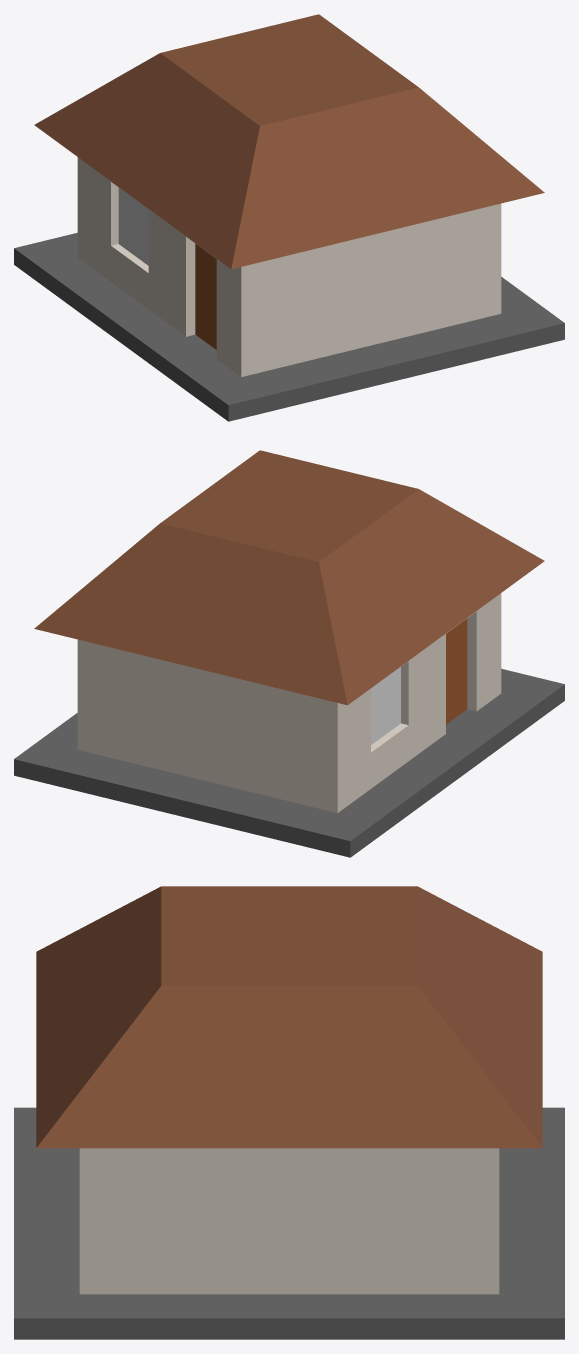
Rendered from House.fbx.
3 renders of one model, top to bottom at view 1: azimuth 30°, elevation 25°; view 2: azimuth 150°, elevation 25°; view 3: azimuth 270°, elevation 25°, orthographic. The views are drawn at different scales.
Parts seen in each view (by area): view 1: Roof, Building, Foundation, Door, Window; view 2: Roof, Building, Foundation, Door, Window; view 3: Roof, Building, Foundation.
Part boxes in pixels (bbox=[...]): Roof: bbox=[34, 14, 544, 269]; Building: bbox=[77, 157, 501, 376]; Foundation: bbox=[14, 232, 564, 421]; Door: bbox=[195, 244, 216, 349]; Window: bbox=[118, 187, 148, 265]; Roof: bbox=[34, 450, 544, 705]; Building: bbox=[77, 593, 501, 812]; Foundation: bbox=[14, 668, 564, 857]; Door: bbox=[446, 618, 467, 724]; Window: bbox=[371, 667, 400, 744]; Roof: bbox=[36, 886, 542, 1148]; Building: bbox=[79, 1148, 499, 1294]; Foundation: bbox=[14, 1107, 564, 1339].
Size of the model in its own units: 12.2 by 8.04 by 13.47.
